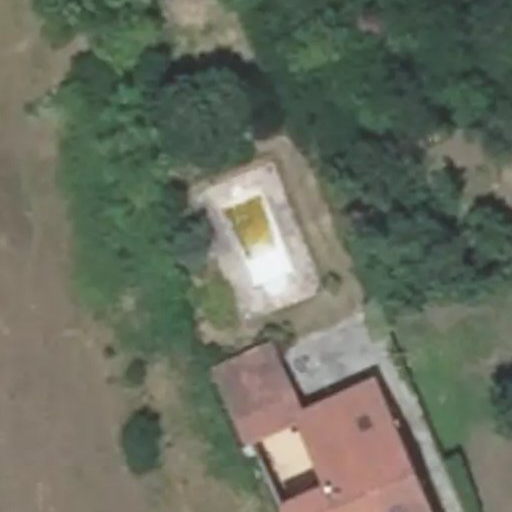pool: (218, 205, 298, 285)
